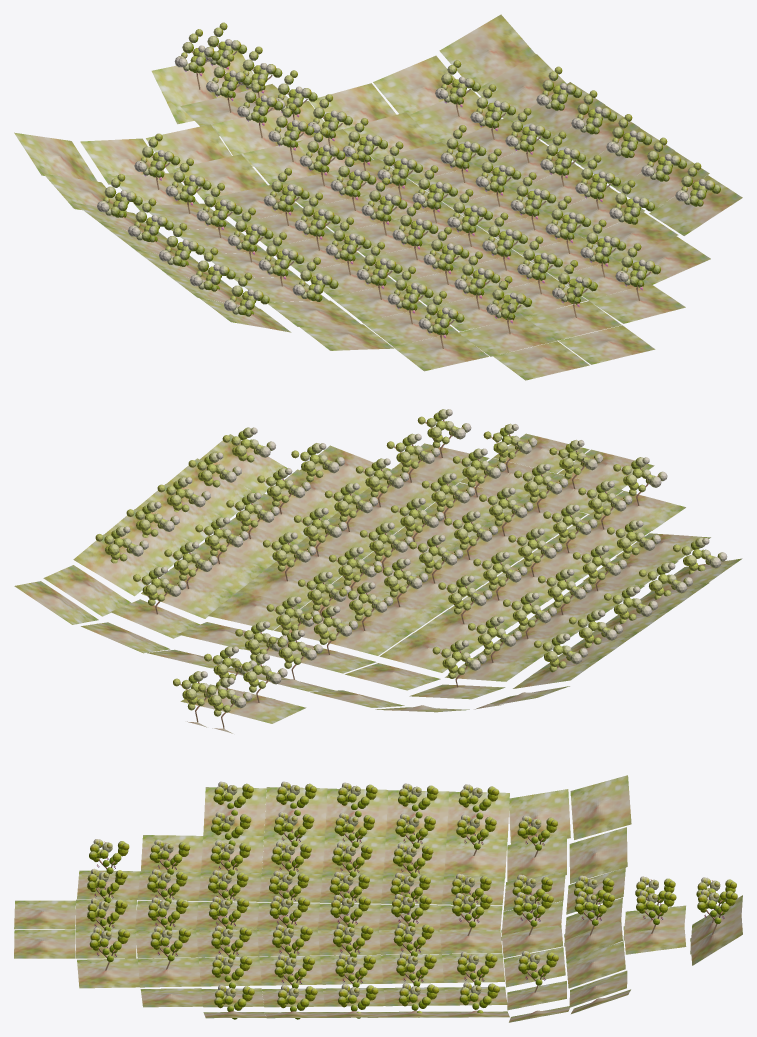
3 renders of one model, top to bottom at view 1: azimuth 30°, elevation 25°; view 2: azimuth 150°, elevation 25°; view 3: azimuth 270°, elevation 25°, orthographic. The views are drawn at different scales.
Visible parts, largest first — view 1: Plane.065, Plane.073, Plane.064, Plane.057, Plane.066, Plane.039, Plane.036, Plane.171, Plane.003, Plane.032, Plane.072, Plane.028 (+117 smaller); view 2: Plane.063, Plane.064, Plane.071, Plane.070, Plane.066, Plane.060, Plane.024, Plane.027, Plane.061, Plane.062, Plane.171, Plane.023 (+109 smaller); view 3: Plane.057, Plane.049, Plane.056, Plane.047, Plane.048, Plane.059, Plane.052, Plane.055, Plane.053, Plane.054, Plane.036, Plane.003 (+112 smaller).
Part boxes in pixels (x1,y1,x2,y2): Plane.065: (439,14,535,86); Plane.073: (373,55,455,114); Plane.064: (476,54,566,122); Plane.057: (14,132,97,181); Plane.066: (649,175,742,235); Plane.039: (558,325,655,364); Plane.036: (493,341,589,380); Plane.171: (393,332,488,371); Plane.003: (588,284,685,323); Plane.032: (146,124,231,178); Plane.072: (409,89,501,144); Plane.028: (176,154,267,200); Plane.063: (73,534,157,596); Plane.064: (43,565,131,616); Plane.071: (141,568,234,618); Plane.070: (172,543,265,593); Plane.066: (200,434,287,495); Plane.060: (167,458,255,518); Plane.024: (379,633,476,672); Plane.027: (208,591,302,630); Plane.061: (135,483,222,543); Plane.062: (104,509,189,568); Plane.171: (589,491,685,530); Plane.023: (239,566,334,605); Plane.057: (570,775,631,839); Plane.049: (569,827,627,883); Plane.056: (509,789,570,844); Plane.047: (444,838,507,877); Plane.048: (507,835,566,881); Plane.059: (203,787,266,835); Plane.052: (264,787,327,835); Plane.055: (447,791,509,841); Plane.053: (325,788,388,837); Plane.054: (386,790,449,838); Plane.036: (14,900,75,929); Plane.003: (77,958,139,988).
Size of the model in its own units: 0.7373 by 0.0952 by 0.9854.
